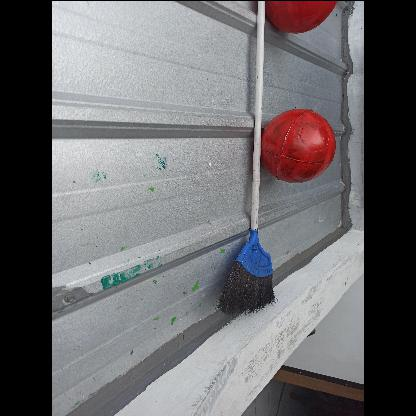red_ball: (261, 105, 337, 181)
